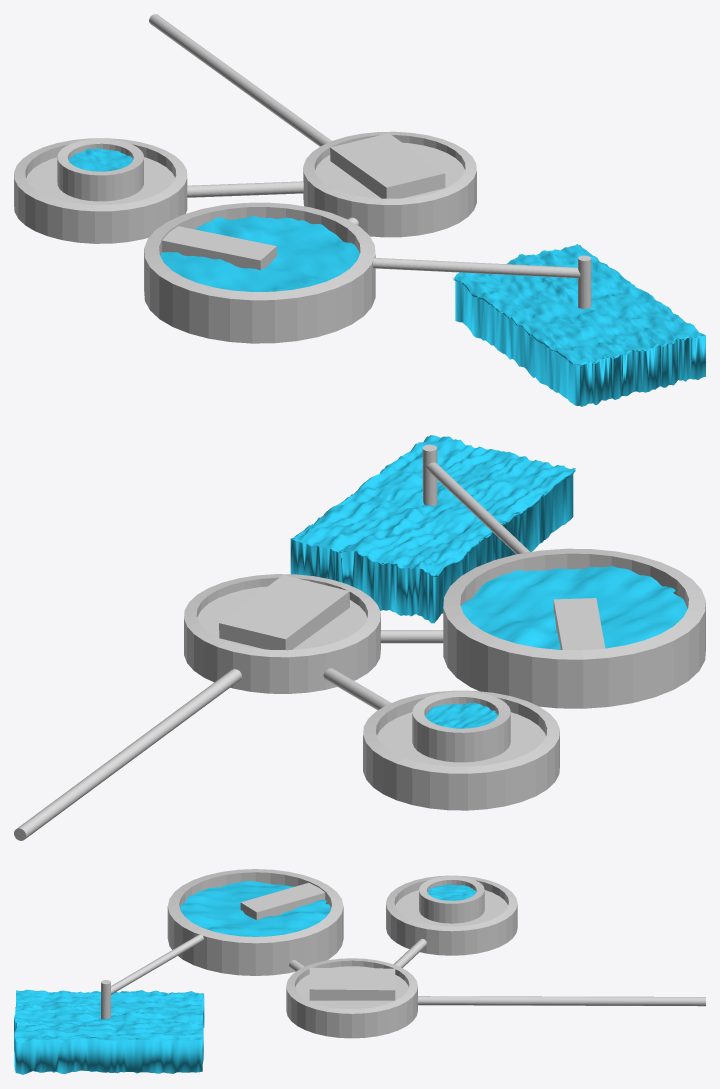
Rendered from station.glb.
3 renders of one model, top to bottom at view 1: azimuth 30°, elevation 25°; view 2: azimuth 150°, elevation 25°; view 3: azimuth 270°, elevation 25°, orthographic. The views are drawn at different scales.
Parts seen in each view (by area): view 1: Circle.001, Plane, Plane.004, Plane.003, Circle, Circle.002, Plane.001, Circle.010, Cube, Cylinder.004, Circle.009, Cylinder.001 (+4 smaller); view 2: Circle.001, Plane, Plane.003, Circle, Circle.002, Plane.004, Plane.001, Circle.010, Cylinder.004, Circle.009, Circle.007, Cube (+5 smaller); view 3: Circle.001, Plane, Plane.004, Circle.002, Circle, Plane.003, Plane.001, Cylinder.004, Circle.010, Cube, Circle.009, Circle.007 (+4 smaller).
Boxes of the visible parts, bbox=[...] form: Circle.001: bbox=[144, 202, 375, 343]; Plane: bbox=[453, 244, 702, 363]; Plane.004: bbox=[453, 245, 705, 406]; Plane.003: bbox=[160, 216, 359, 291]; Circle: bbox=[14, 138, 187, 243]; Circle.002: bbox=[303, 131, 476, 237]; Plane.001: bbox=[330, 133, 445, 198]; Circle.010: bbox=[57, 138, 143, 201]; Cube: bbox=[162, 226, 276, 270]; Cylinder.004: bbox=[149, 14, 331, 146]; Circle.009: bbox=[26, 157, 174, 205]; Cylinder.001: bbox=[372, 257, 580, 278]; Circle.001: bbox=[443, 548, 705, 708]; Plane: bbox=[294, 435, 575, 574]; Plane.003: bbox=[461, 566, 687, 649]; Circle: bbox=[363, 690, 559, 810]; Circle.002: bbox=[184, 574, 380, 693]; Plane.004: bbox=[290, 436, 575, 623]; Plane.001: bbox=[219, 575, 349, 650]; Circle.010: bbox=[412, 691, 510, 762]; Cylinder.004: bbox=[14, 669, 241, 840]; Circle.009: bbox=[377, 712, 545, 766]; Circle.007: bbox=[197, 586, 367, 649]; Cube: bbox=[553, 598, 605, 650]; Circle.001: bbox=[167, 869, 343, 975]; Plane: bbox=[14, 989, 203, 1040]; Plane.004: bbox=[14, 995, 204, 1074]; Circle.002: bbox=[286, 958, 417, 1038]; Circle: bbox=[386, 875, 517, 955]; Plane.003: bbox=[180, 881, 330, 936]; Plane.001: bbox=[309, 967, 395, 1000]; Cylinder.004: bbox=[417, 996, 705, 1006]; Circle.010: bbox=[419, 876, 484, 923]; Cube: bbox=[240, 883, 325, 920]; Circle.009: bbox=[395, 890, 508, 926]; Circle.007: bbox=[295, 966, 408, 1009].
Bounding box in the file's own units: 9.1 × 2.09 × 18.3.
